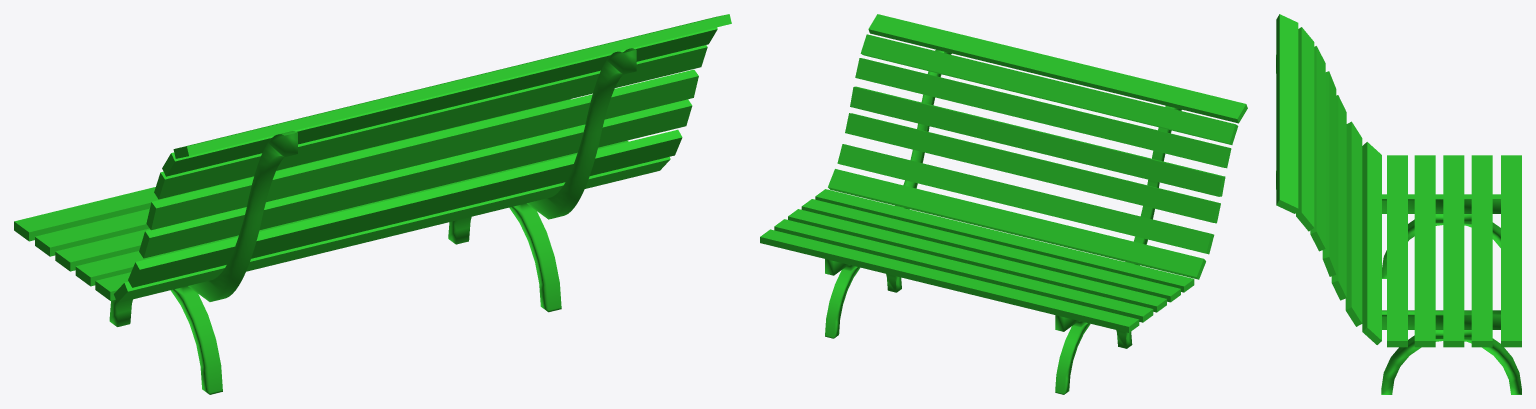
3 renders of one model, left to right at view 1: azimuth 30°, elevation 25°; view 2: azimuth 150°, elevation 25°; view 3: azimuth 270°, elevation 25°, orthographic. The views are drawn at different scales.
Parts seen in each view (by area): view 1: mesh13_mesh13-geometry, mesh12_mesh12-geometry, mesh6_mesh6-geometry, mesh7_mesh7-geometry, mesh1_mesh1-geometry; view 2: mesh13_mesh13-geometry, mesh7_mesh7-geometry, mesh1_mesh1-geometry, mesh12_mesh12-geometry, mesh6_mesh6-geometry; view 3: mesh13_mesh13-geometry, mesh1_mesh1-geometry, mesh12_mesh12-geometry, mesh7_mesh7-geometry, mesh6_mesh6-geometry.
Part boxes in pixels (x1,y1,x2,y2): mesh13_mesh13-geometry: (14,14,731,302); mesh12_mesh12-geometry: (527,48,636,219); mesh6_mesh6-geometry: (188,132,297,301); mesh7_mesh7-geometry: (109,286,222,394); mesh1_mesh1-geometry: (448,203,561,312); mesh13_mesh13-geometry: (760,14,1247,332); mesh7_mesh7-geometry: (1055,321,1132,394); mesh1_mesh1-geometry: (825,265,901,338); mesh12_mesh12-geometry: (825,49,951,275); mesh6_mesh6-geometry: (1055,108,1181,331); mesh13_mesh13-geometry: (1276,14,1521,347); mesh1_mesh1-geometry: (1381,330,1521,394); mesh12_mesh12-geometry: (1276,171,1500,329); mesh7_mesh7-geometry: (1382,214,1500,278); mesh6_mesh6-geometry: (1276,55,1500,213).
Size of the model in its own units: 0.726 by 0.4154 by 0.4062.
